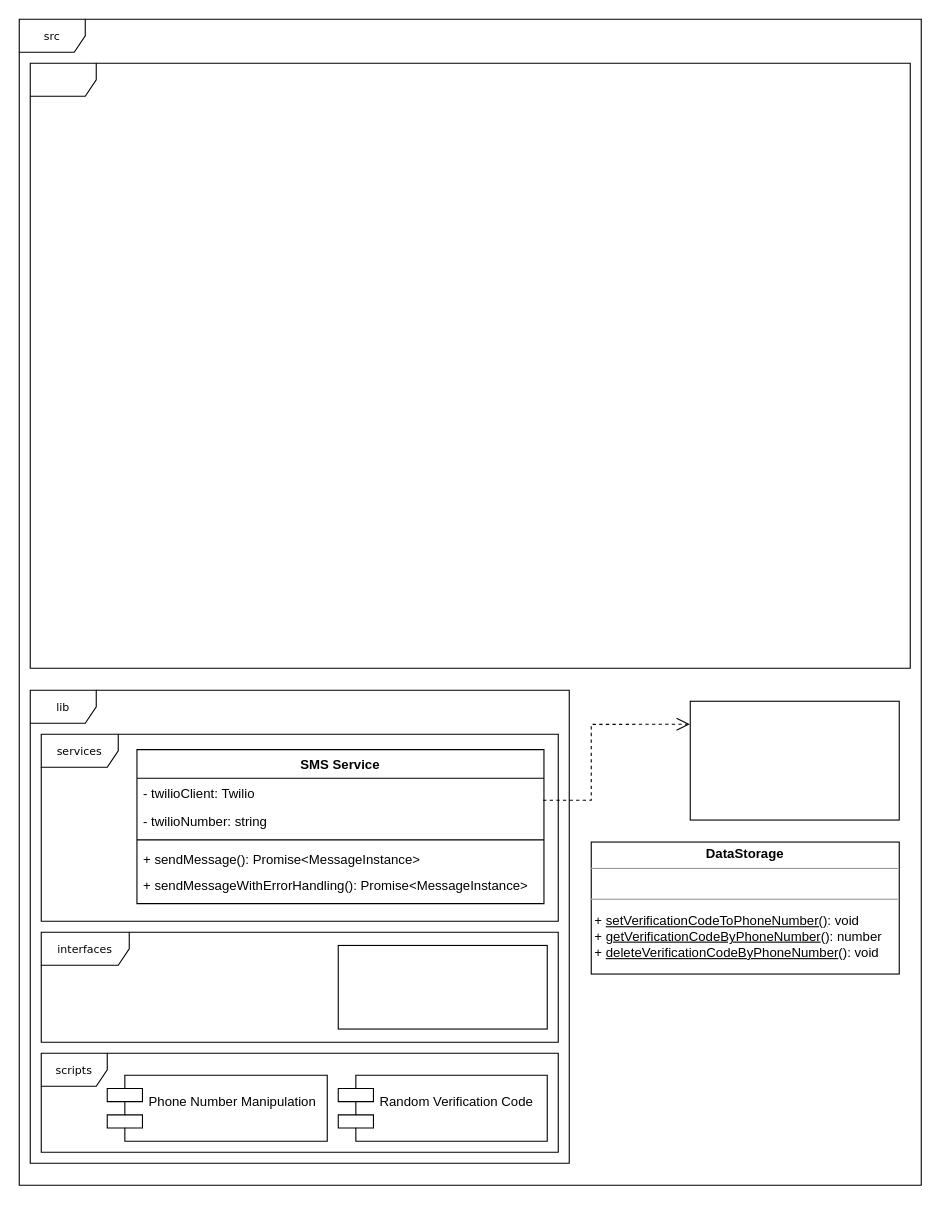
This 941x1205 diagram has some shape labels left out. The shapes that lost their labels are listed below. From the top down, each one's centre as x and y in pixels, then its label:
At [469,365]: "auth".
At [794,760]: "ConfigService + getPort(): number + getEnv(): string ...".
At [442,986]: "<<Interface>> SuccessfulResponse + success: true".
